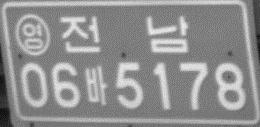0: (19, 61, 48, 109)
1: (146, 60, 176, 111)
5: (115, 61, 144, 109)
6: (50, 61, 81, 109)
7: (179, 60, 208, 111)
8: (213, 61, 247, 111)
바: (83, 64, 109, 105)
영: (14, 13, 51, 56)
전남_D: (58, 15, 190, 54)
